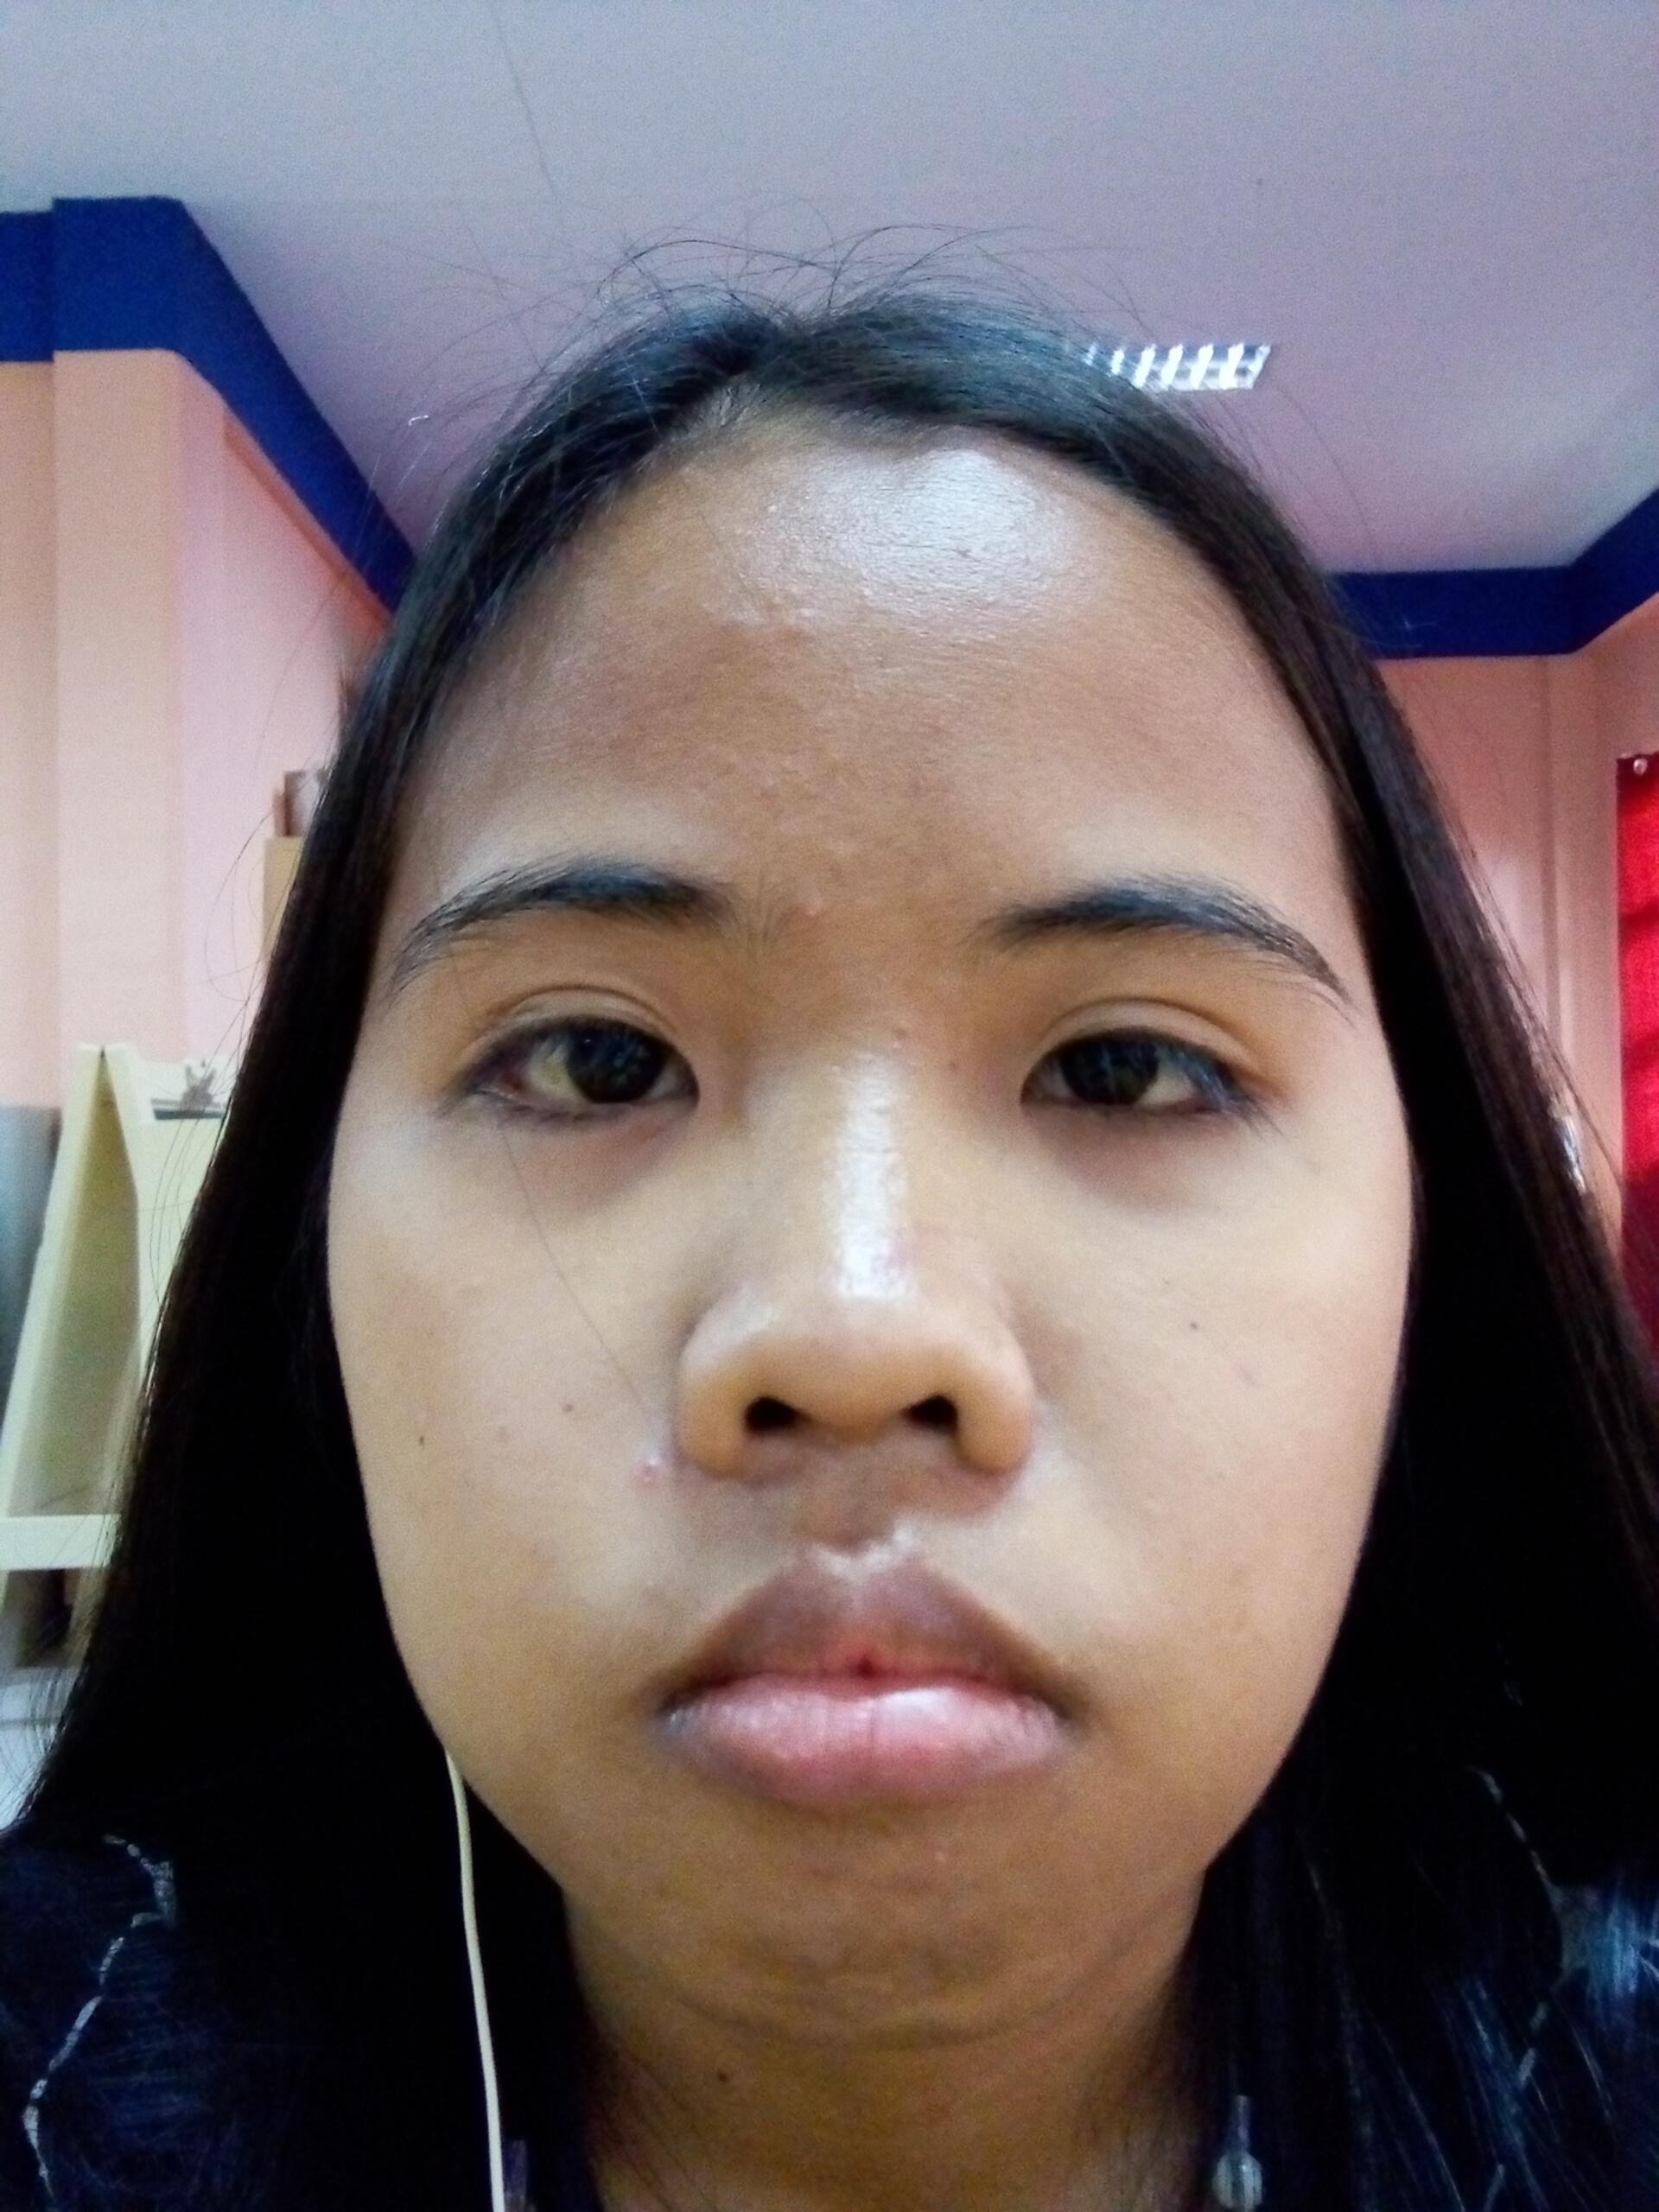Acne: (613, 1435, 685, 1496), (716, 589, 769, 664), (720, 749, 798, 796), (769, 583, 821, 646), (749, 479, 796, 533), (939, 523, 992, 564), (885, 1008, 934, 1052), (833, 840, 863, 888), (842, 582, 892, 606), (934, 695, 953, 751), (809, 890, 831, 930), (931, 1848, 958, 1874)
